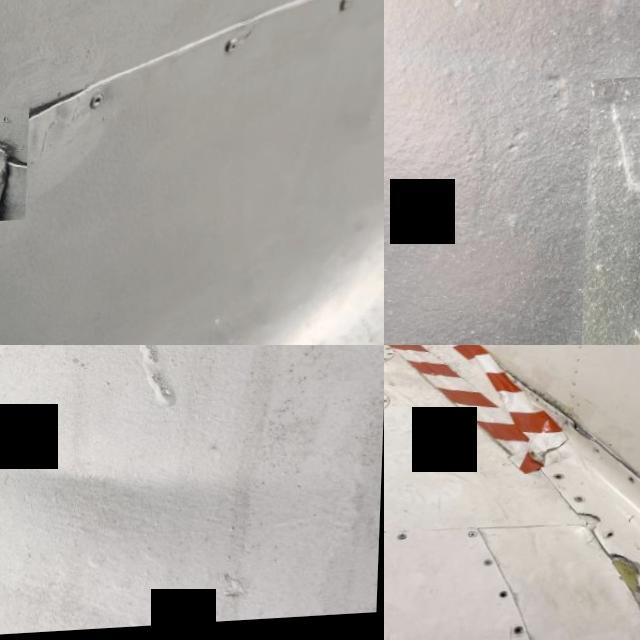Crack: (521, 386, 598, 450), (599, 550, 640, 612), (574, 513, 606, 534)
Missing_Fastener: (0, 110, 31, 227), (516, 626, 532, 637), (608, 530, 618, 544), (500, 592, 514, 602), (629, 476, 640, 487), (556, 474, 570, 482), (595, 449, 605, 458)
